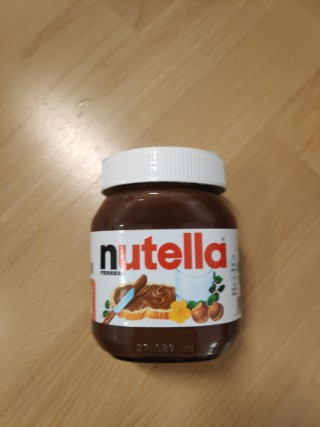nutella: (87, 144, 243, 364)
